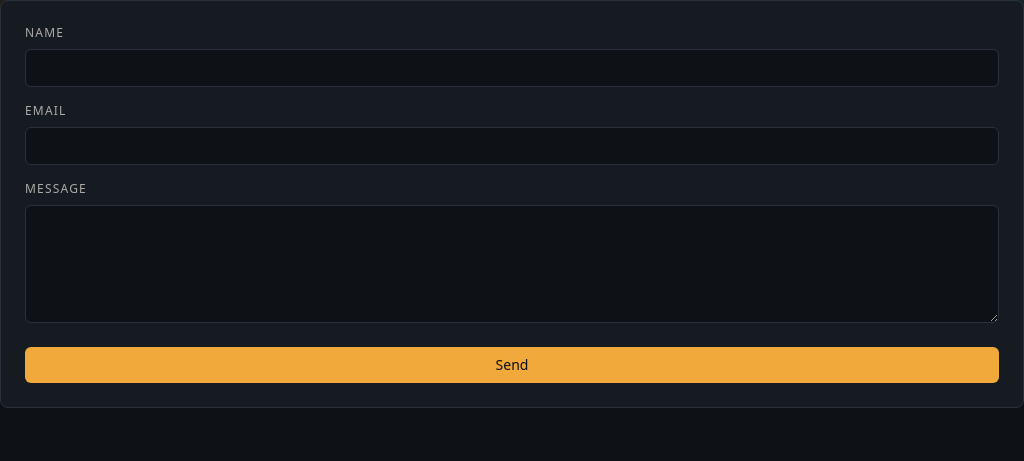
Test: ContactForm › shows an error message when the request fails
Type "Michał" into the field labelled "Name" at (512, 68), box [25,49,999,87]
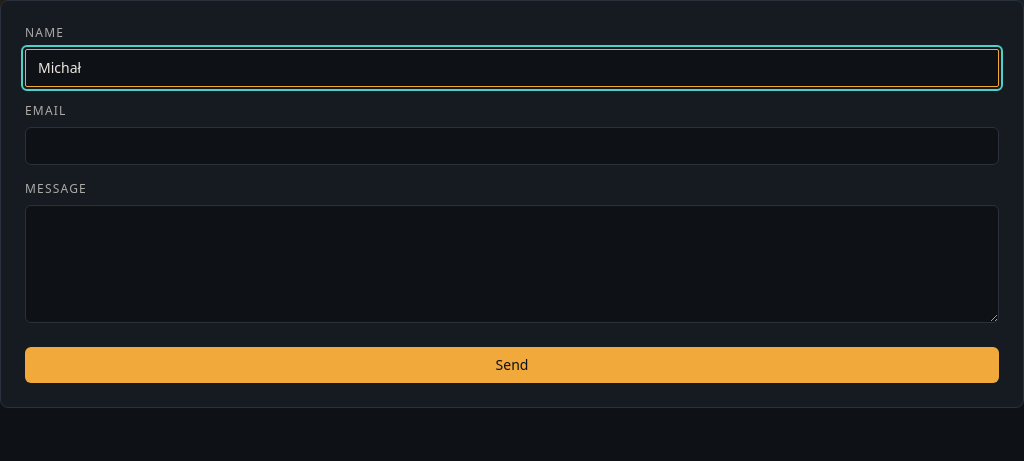
Type "m@example.com" into the field labelled "Email" at (512, 146), box [25,127,999,165]
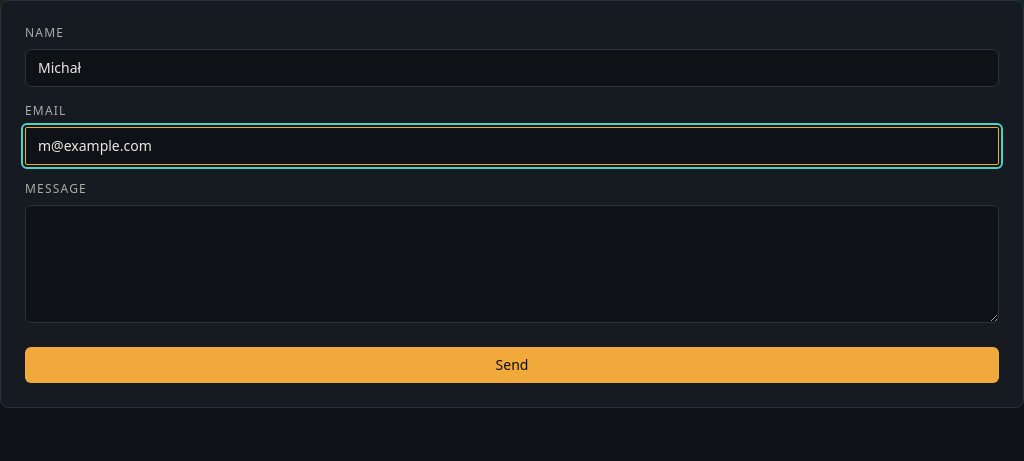
Type "Let's work together." into the text box labelled "Message" at (512, 264), box [25,205,999,323]
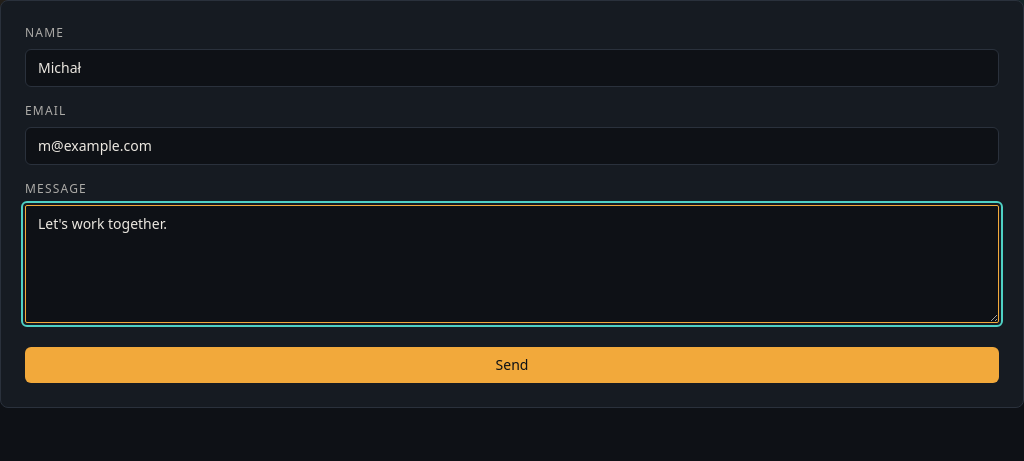
Click the button "Send" at (512, 365), box [25,347,999,383]
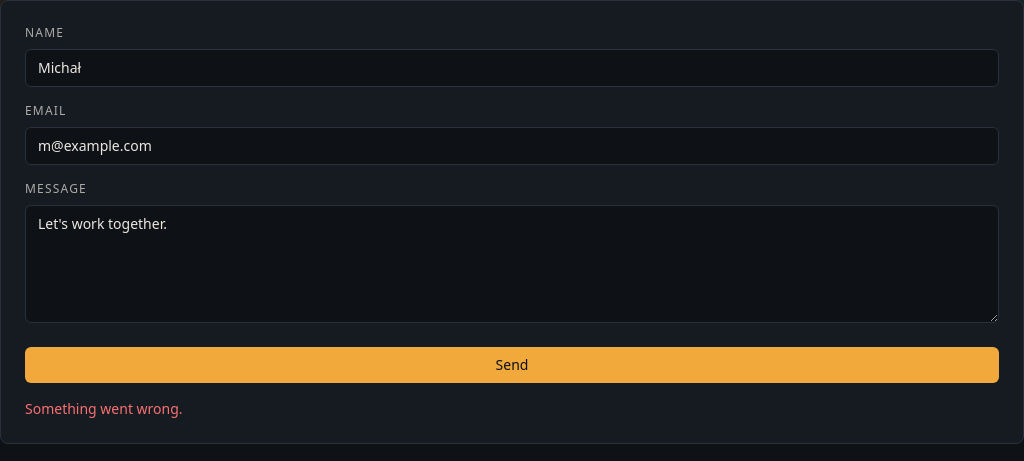
Expected: the text "Something went wrong." is shown, [25,399,183,418]
